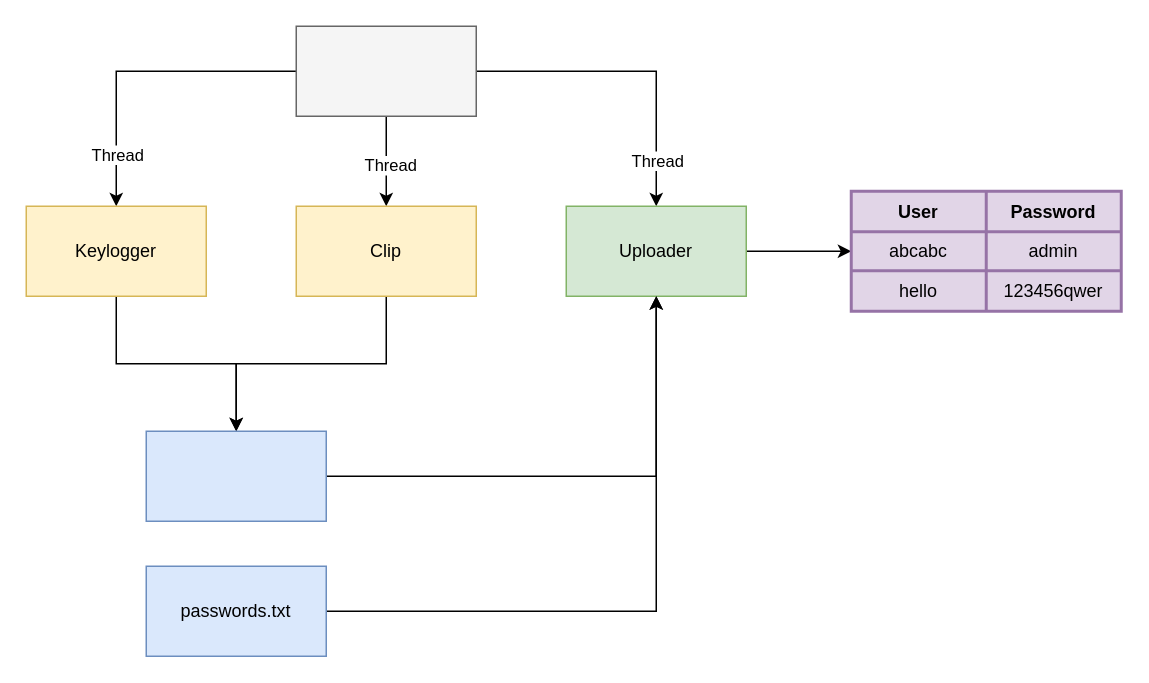
Image size: 1149x683. Some labels were removed from this diagram. Each missing label, with the centre of its shape:
Attacker: (x=385, y=70)
sr.log: (x=235, y=475)
